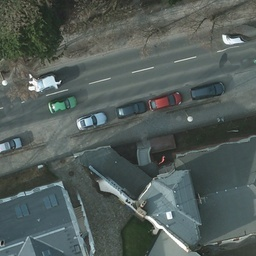car: (191, 79, 224, 101), (149, 92, 182, 111), (45, 94, 77, 113), (74, 112, 108, 127), (115, 103, 147, 115), (1, 138, 20, 152)
